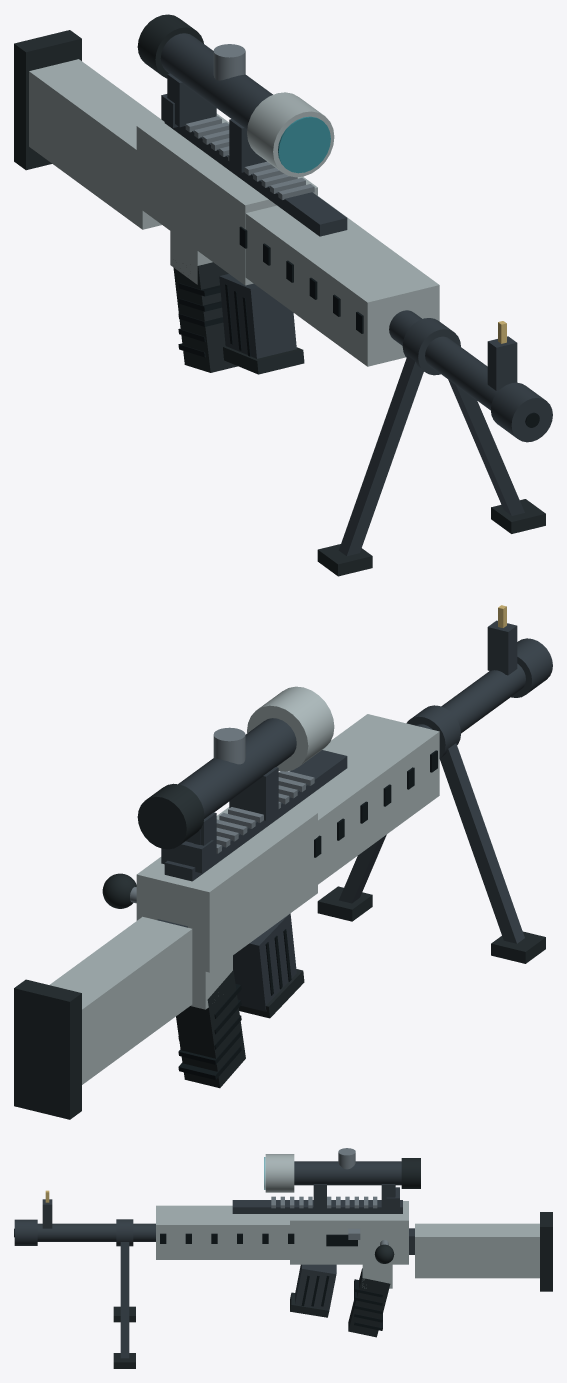
Rendered from sr_01_frost.glb.
3 views of the same model, one above another, from view 1: azimuth 30°, elevation 25°; view 2: azimuth 150°, elevation 25°; view 3: azimuth 270°, elevation 25° (orthographic). The views are drawn at different scales.
Parts seen in each view (by area): view 1: handguard, stock_body, receiver, scope_tube, bipod_leg_-1, magazine, buttpad, grip, scope_objective, barrel, upper_rail, bipod_leg_1 (+12 smaller); view 2: receiver, stock_body, handguard, buttpad, scope_tube, bipod_leg_-1, grip, scope_objective, magazine, scope_eyepiece, upper_rail, barrel (+12 smaller); view 3: stock_body, handguard, receiver, scope_tube, barrel, upper_rail, magazine, grip, scope_objective, bipod_leg_1, buttpad, muzzle_device (+10 smaller).
Boxes of the visible parts, bbox=[...] form: handguard: bbox=[245, 195, 439, 366]; stock_body: bbox=[29, 59, 161, 229]; receiver: bbox=[136, 113, 317, 285]; scope_tube: bbox=[160, 33, 272, 129]; bipod_leg_-1: bbox=[338, 355, 423, 556]; magazine: bbox=[219, 274, 296, 358]; buttpad: bbox=[14, 30, 81, 170]; grip: bbox=[173, 262, 237, 372]; scope_objective: bbox=[247, 92, 334, 177]; barrel: bbox=[389, 310, 499, 410]; upper_rail: bbox=[164, 122, 347, 236]; bipod_leg_1: bbox=[448, 379, 524, 515]; receiver: bbox=[136, 807, 317, 972]; stock_body: bbox=[49, 916, 192, 1084]; handguard: bbox=[289, 714, 439, 884]; buttpad: bbox=[14, 979, 81, 1119]; scope_tube: bbox=[178, 718, 296, 818]; bipod_leg_-1: bbox=[440, 743, 524, 943]; grip: bbox=[176, 970, 245, 1088]; scope_objective: bbox=[247, 686, 334, 771]; magazine: bbox=[233, 913, 296, 1011]; scope_eyepiece: bbox=[137, 783, 204, 849]; upper_rail: bbox=[164, 750, 347, 881]; barrel: bbox=[416, 663, 525, 733]; stock_body: bbox=[415, 1223, 539, 1278]; handguard: bbox=[156, 1205, 289, 1259]; receiver: bbox=[290, 1201, 408, 1264]; scope_tube: bbox=[294, 1161, 401, 1185]; barrel: bbox=[37, 1223, 155, 1241]; upper_rail: bbox=[232, 1200, 402, 1213]; magazine: bbox=[295, 1264, 336, 1311]; grip: bbox=[348, 1268, 390, 1337]; scope_objective: bbox=[265, 1154, 294, 1192]; bipod_leg_1: bbox=[120, 1242, 129, 1358]; buttpad: bbox=[540, 1212, 552, 1291]; muzzle_device: bbox=[14, 1219, 37, 1245].
Size of the model in its own units: 0.271 by 0.4295 by 1.11.
